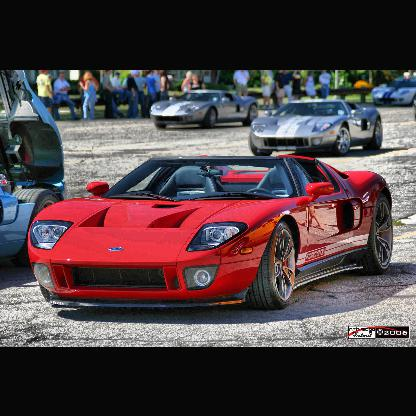Ford GT Coupe 2006: (27, 154, 396, 310)
